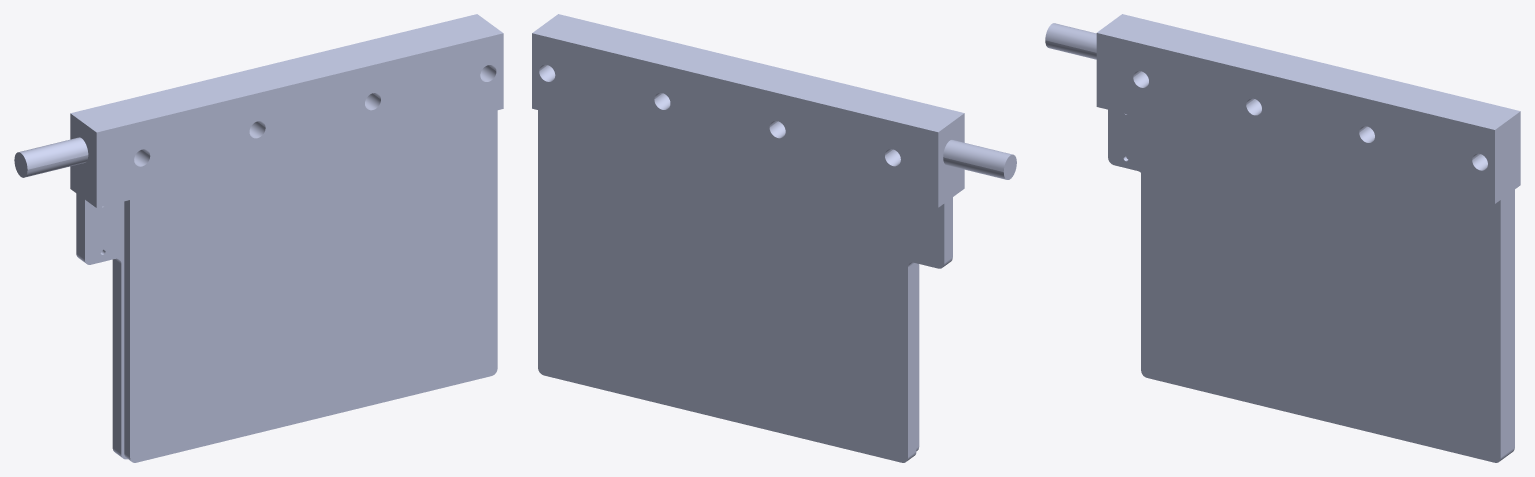
File: MUC-3.glb
3 renders of one model, left to right at view 1: azimuth 30°, elevation 25°; view 2: azimuth 150°, elevation 25°; view 3: azimuth 330°, elevation 25°, orthographic. The views are drawn at different scales.
Visible parts, largest first — view 1: MUC-3_node_1; view 2: MUC-3_node_1; view 3: MUC-3_node_1.
Boxes of the visible parts, box(x1,y1,x2,y2) form: MUC-3_node_1: box(14, 14, 503, 462); MUC-3_node_1: box(532, 14, 1016, 462); MUC-3_node_1: box(1045, 14, 1520, 462).
Size of the model in its own units: 154 by 109 by 15.
